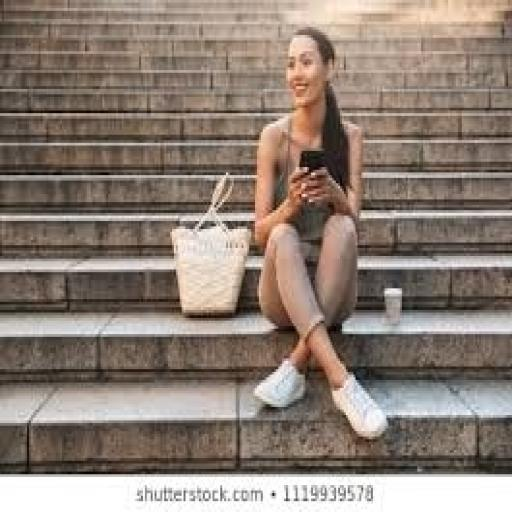sitting: (250, 21, 390, 442)
